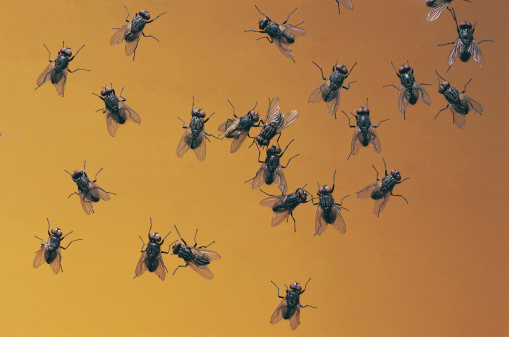green bottles flies: (171, 84, 220, 165), (62, 153, 122, 219), (171, 215, 226, 286), (27, 34, 89, 95), (244, 2, 305, 64), (354, 159, 416, 220), (103, 5, 166, 63), (26, 216, 82, 277), (89, 75, 142, 139), (383, 57, 434, 123), (265, 274, 318, 337), (307, 46, 350, 123), (131, 211, 171, 291), (433, 69, 486, 129), (310, 168, 351, 245), (341, 102, 394, 157)
